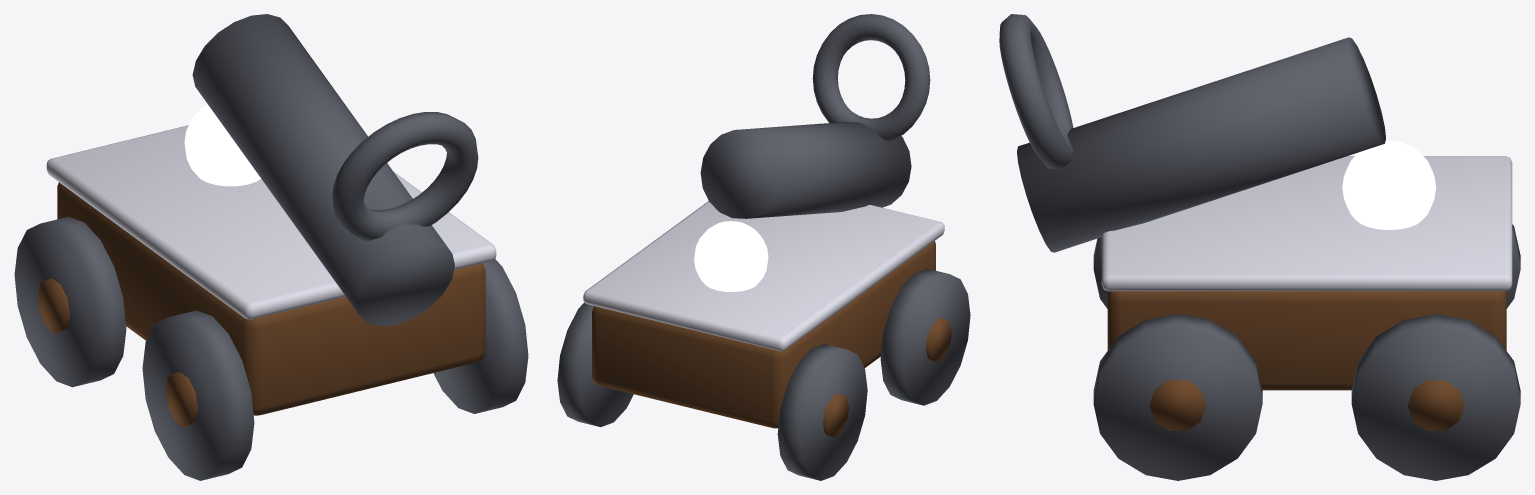
File: minion_siege.glb
3 renders of one model, left to right at view 1: azimuth 30°, elevation 25°; view 2: azimuth 150°, elevation 25°; view 3: azimuth 270°, elevation 25°, orthographic. The views are drawn at different scales.
Visible parts, largest first — view 1: Siege; view 2: Siege; view 3: Siege.
Part boxes in pixels (x1,y1,x2,y2): Siege: (14, 14, 528, 480); Siege: (557, 14, 970, 480); Siege: (999, 14, 1520, 480).
Bounding box in the file's own units: 1.55 × 1.81 × 2.22.
